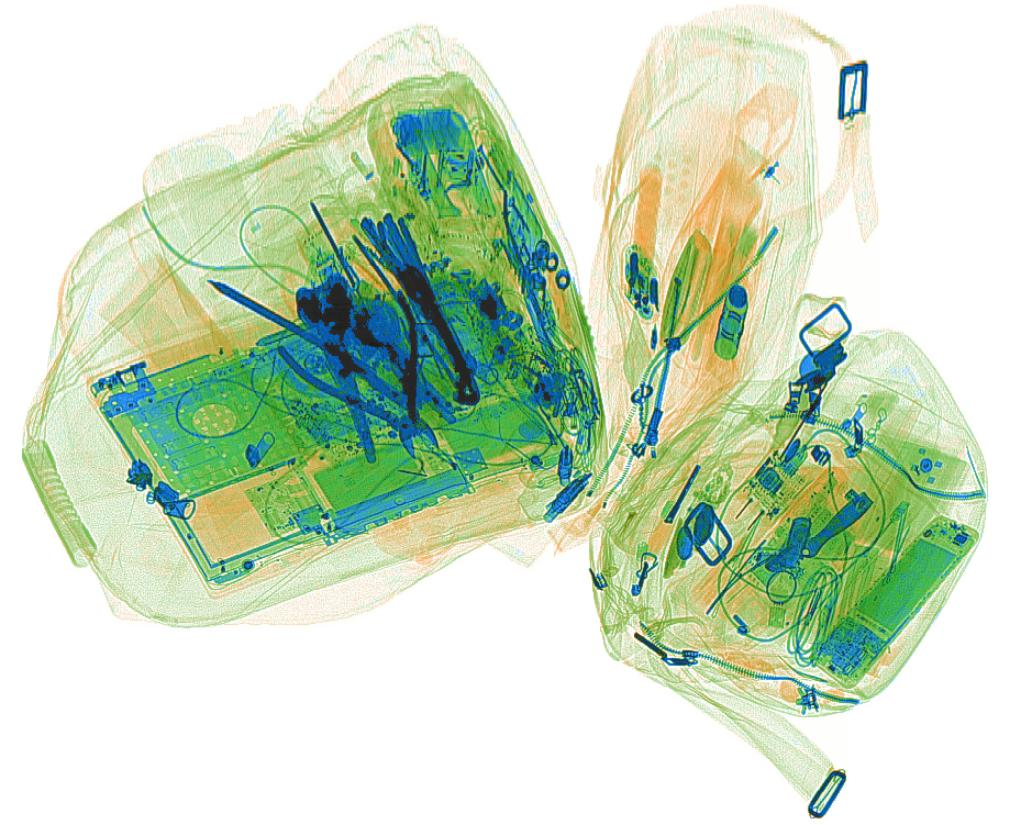battery: (387, 105, 463, 165)
